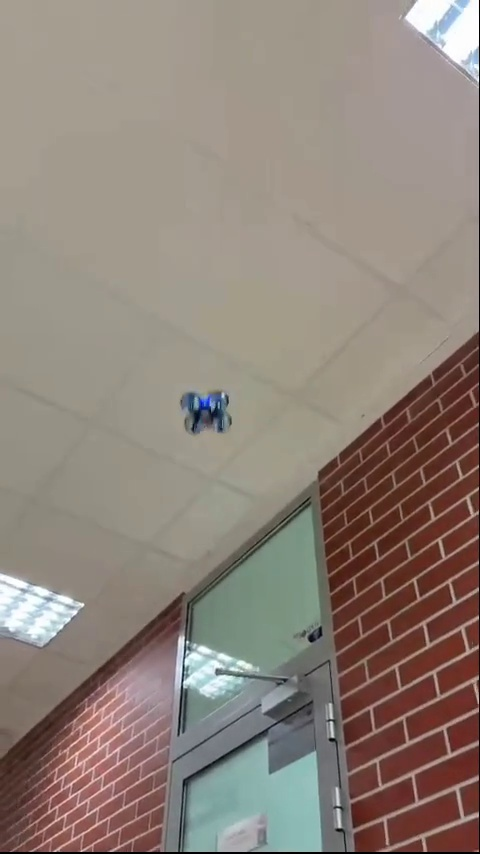drone: (179, 390, 237, 431)
